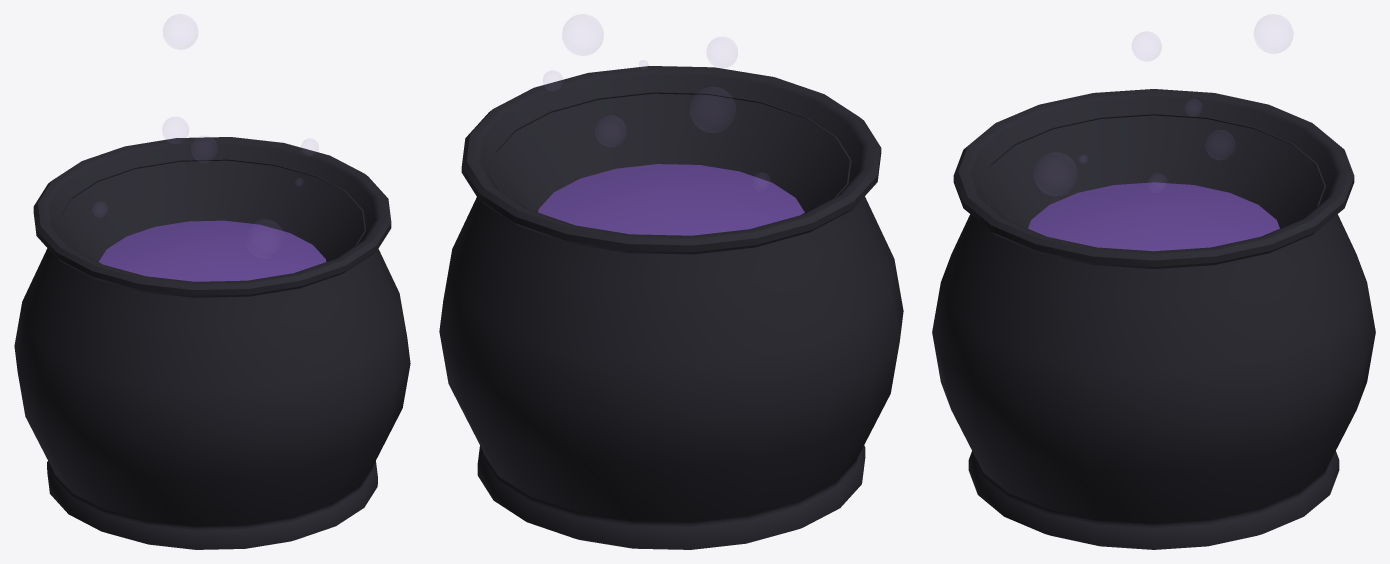
Rendered from lvl2_cauldron.fbx.
3 renders of one model, left to right at view 1: azimuth 30°, elevation 25°; view 2: azimuth 150°, elevation 25°; view 3: azimuth 270°, elevation 25°, orthographic. The views are drawn at different scales.
Visible parts, largest first — view 1: pCylinder1; view 2: pCylinder1; view 3: pCylinder1.
Boxes of the visible parts, x1,y1,x2,y2 form: pCylinder1: (14,137,410,549); pCylinder1: (439,66,903,549); pCylinder1: (932,89,1375,549).
Bounding box in the file's own units: 120 × 141 × 120.
